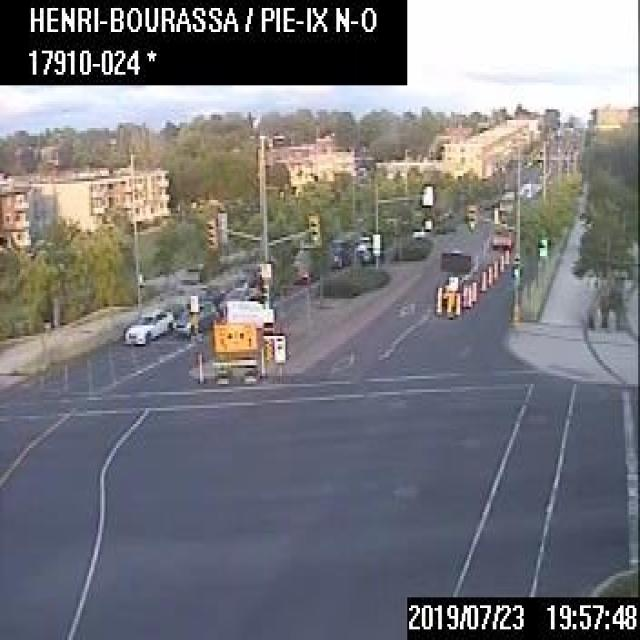construction: (192, 299, 272, 384), (440, 248, 469, 307), (434, 285, 441, 313), (446, 292, 452, 317), (462, 283, 468, 306), (470, 278, 476, 300), (478, 268, 484, 290), (454, 291, 459, 314), (486, 264, 491, 284), (503, 247, 508, 263), (492, 260, 496, 278), (498, 254, 502, 270)
vehicle: (122, 306, 173, 346), (172, 303, 217, 336), (218, 286, 260, 310), (289, 248, 320, 280), (327, 237, 351, 267), (464, 202, 474, 218)
